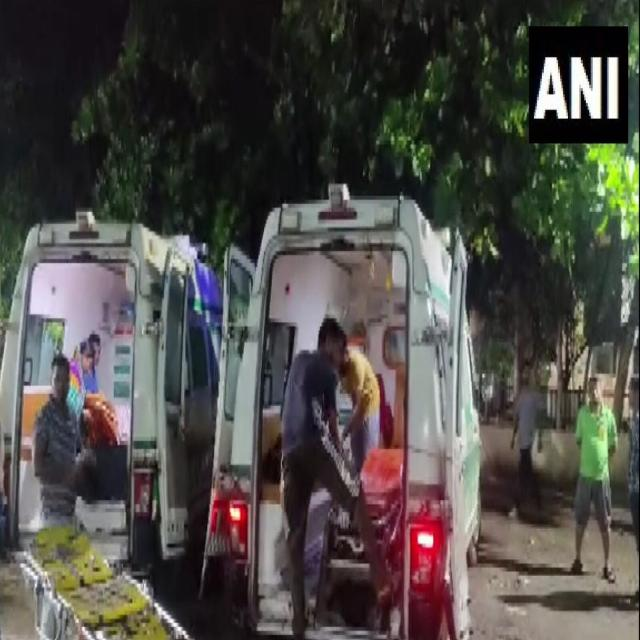emergency: (201, 184, 481, 638), (0, 211, 221, 569)
